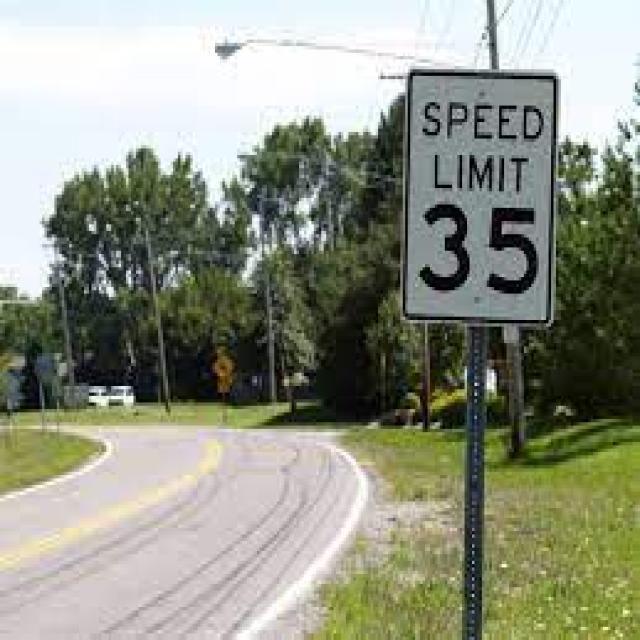speedLimit35: (402, 64, 556, 332)
